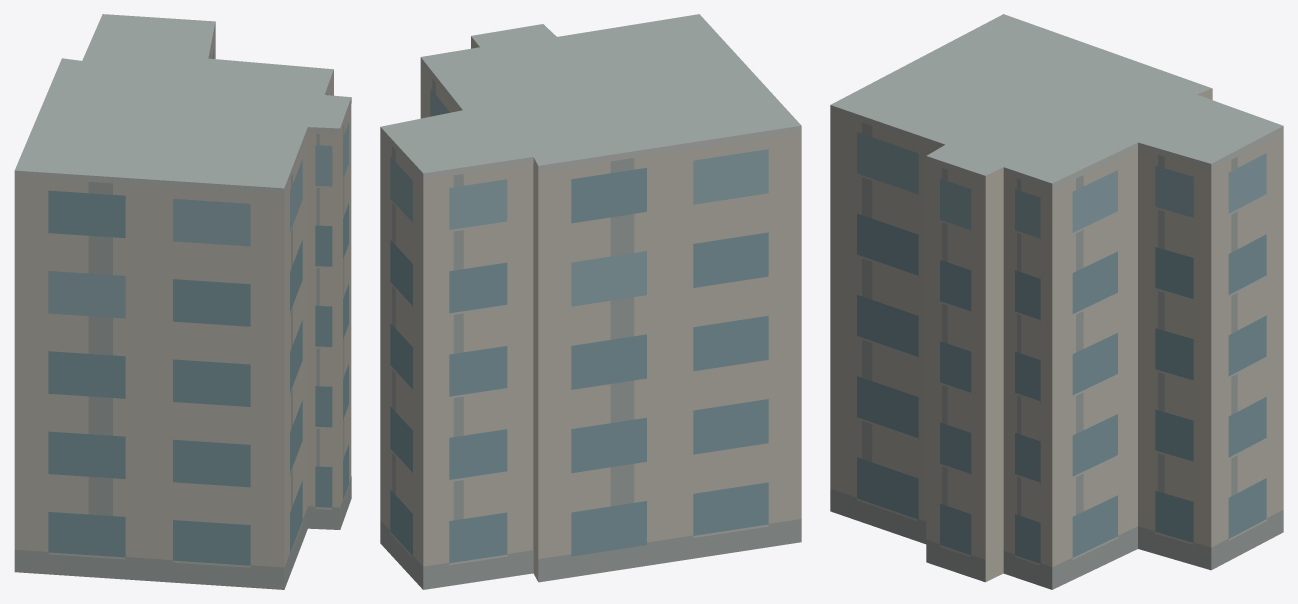
The model's file is survey-upis-32963566.glb.
The picture shows the model from 3 angles, left to right: view 1: azimuth 30°, elevation 25°; view 2: azimuth 150°, elevation 25°; view 3: azimuth 270°, elevation 25°; orthographic projection. The views are drawn at different scales.
Parts seen in each view (by area): view 1: survey-upis-32963566.tmp; view 2: survey-upis-32963566.tmp; view 3: survey-upis-32963566.tmp.
Part boxes in pixels (<box>): survey-upis-32963566.tmp: <box>14,14,351,589</box>; survey-upis-32963566.tmp: <box>380,14,801,589</box>; survey-upis-32963566.tmp: <box>830,14,1283,589</box>.
Size of the model in its own units: 13.7 by 15.3 by 15.48.
